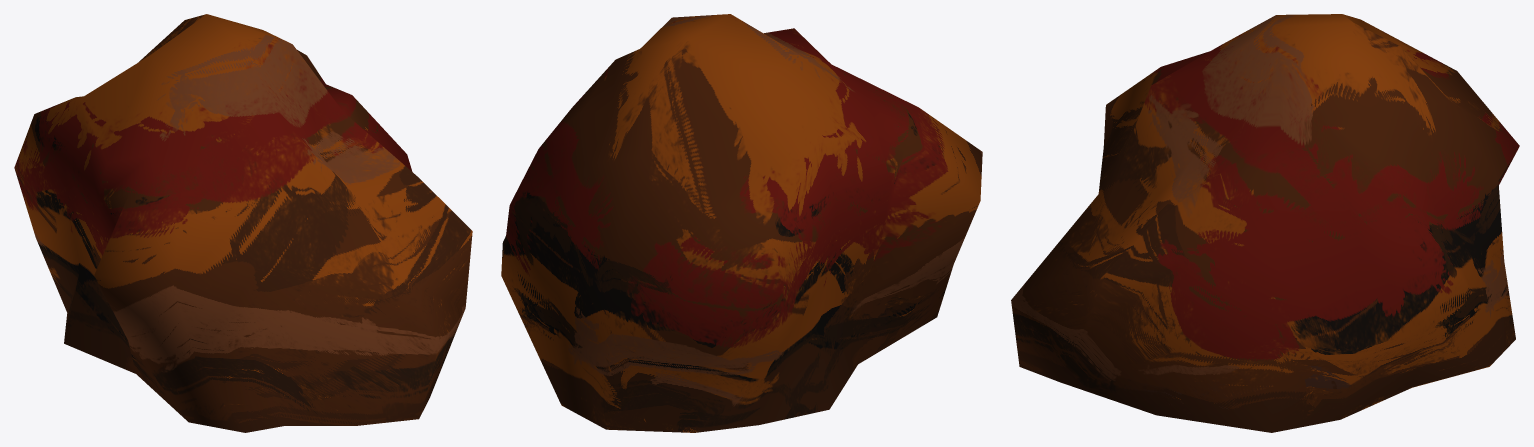
The model's file is rock2.fbx.
3 renders of one model, left to right at view 1: azimuth 30°, elevation 25°; view 2: azimuth 150°, elevation 25°; view 3: azimuth 270°, elevation 25°, orthographic. The views are drawn at different scales.
Visible parts, largest first — view 1: pCube1; view 2: pCube1; view 3: pCube1.
Boxes of the visible parts, x1,y1,x2,y2 form: pCube1: (14,14,472,432); pCube1: (501,14,982,432); pCube1: (1011,14,1519,432).
Bounding box in the file's own units: 1.3 × 1.01 × 1.47.
1 material, 1 textured.
